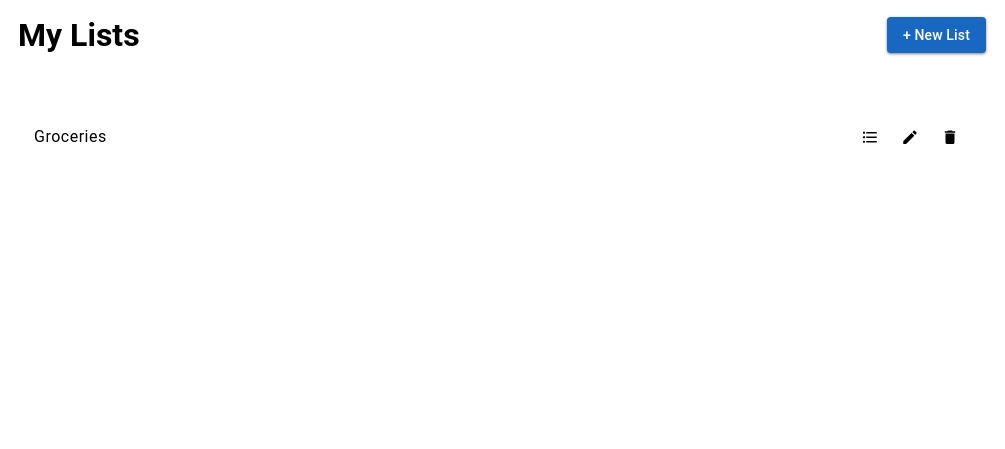
Test: Feature 5 — Todo Due Date › US-5.4 — Spot overdue todos › Incomplete todo past due date is styled as overdue
What coordinates should you click on to do the following:
click the button named "View items for Groceries"
I would click on:
 (870, 137)
Its box is [850,117,890,157].
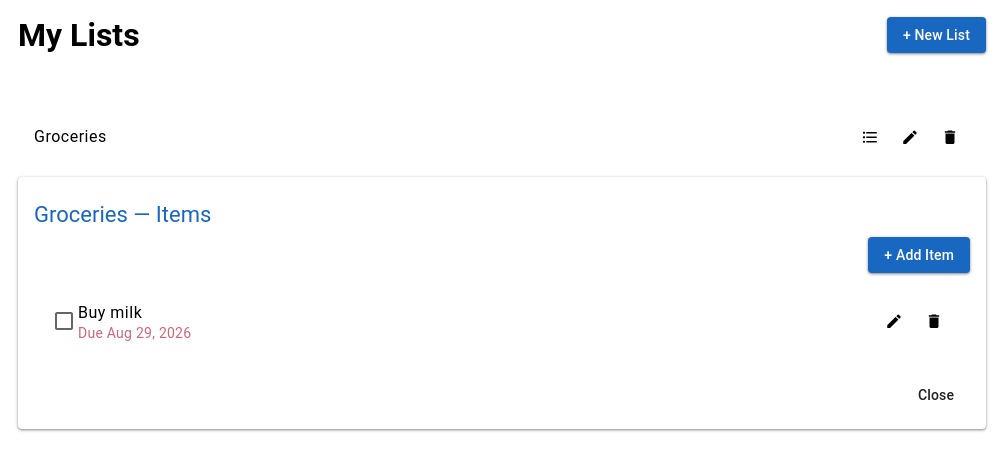
Check: the text "Due Aug 29, 2026" is shown, box [78,325,191,341]
